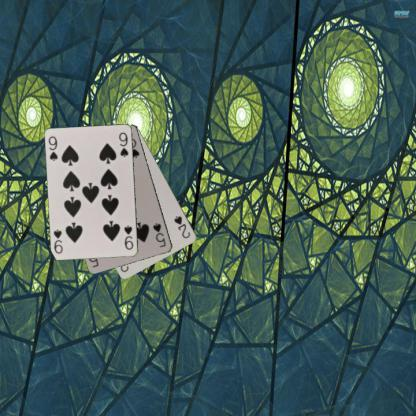2s: (172, 213, 192, 240)
5s: (150, 220, 167, 249)
9s: (122, 223, 135, 251), (46, 134, 59, 162)
